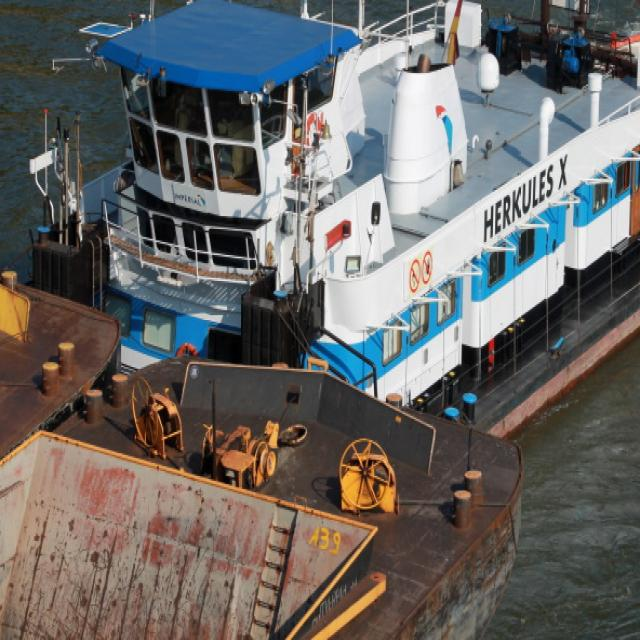tugboat: (22, 1, 640, 480)
